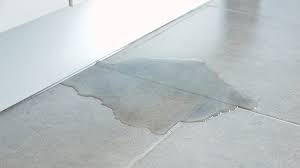Wet-floor: (79, 52, 265, 138)
